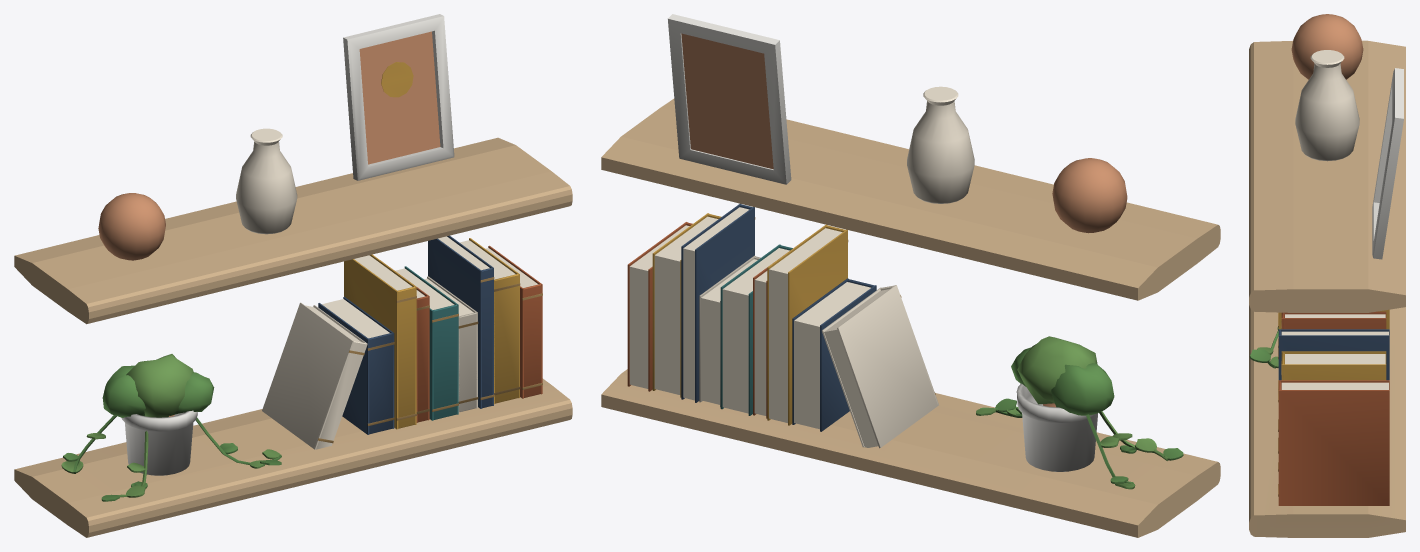
File: wallShelf.glb
3 views of the same model, side by side, from view 1: azimuth 30°, elevation 25°; view 2: azimuth 150°, elevation 25°; view 3: azimuth 270°, elevation 25° (orthographic). The views are drawn at different scales.
Parts seen in each view (by area): view 1: wallShelf; view 2: wallShelf; view 3: wallShelf.
Boxes of the visible parts, box(x1,y1,x2,y2) form: wallShelf: box(14, 14, 572, 537); wallShelf: box(601, 14, 1220, 537); wallShelf: box(1249, 14, 1405, 537).
Size of the model in its own units: 0.9 by 0.6585 by 0.24.
